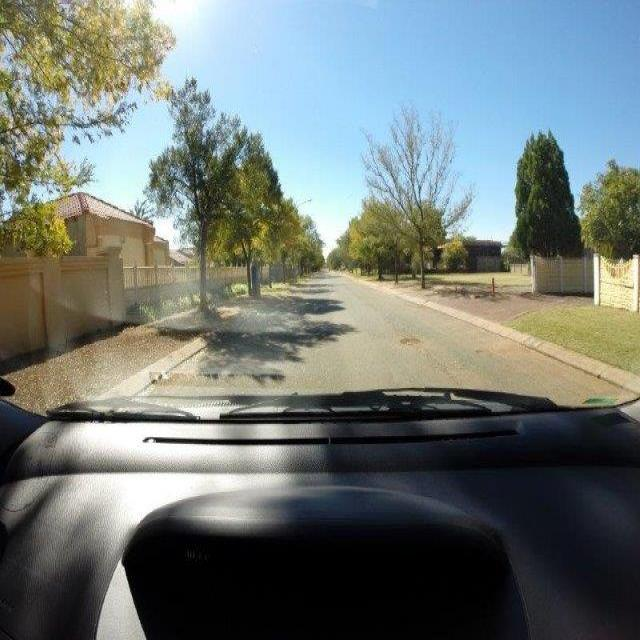lubang: (398, 332, 426, 348)
